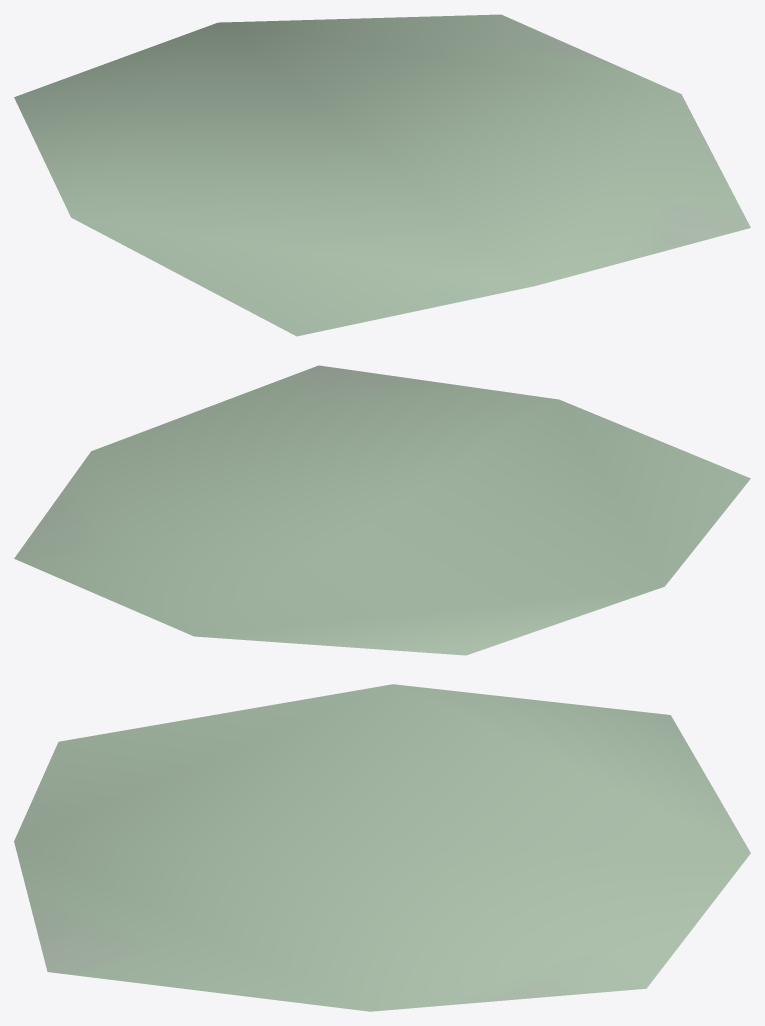
Rendered from TROLLHOLE02_HOLECAP214.fbx.
The picture shows the model from 3 angles, top to bottom: view 1: azimuth 30°, elevation 25°; view 2: azimuth 150°, elevation 25°; view 3: azimuth 270°, elevation 25°; orthographic projection. The views are drawn at different scales.
Visible parts, largest first — view 1: TROLLHOLE02_HOLECAP214; view 2: TROLLHOLE02_HOLECAP214; view 3: TROLLHOLE02_HOLECAP214.
Part boxes in pixels (bbox=[...]): TROLLHOLE02_HOLECAP214: bbox=[14, 14, 750, 336]; TROLLHOLE02_HOLECAP214: bbox=[14, 365, 750, 655]; TROLLHOLE02_HOLECAP214: bbox=[14, 684, 750, 1011].
Bounding box in the file's own units: 13142 × 575 × 13140.
1 material, 1 textured.
